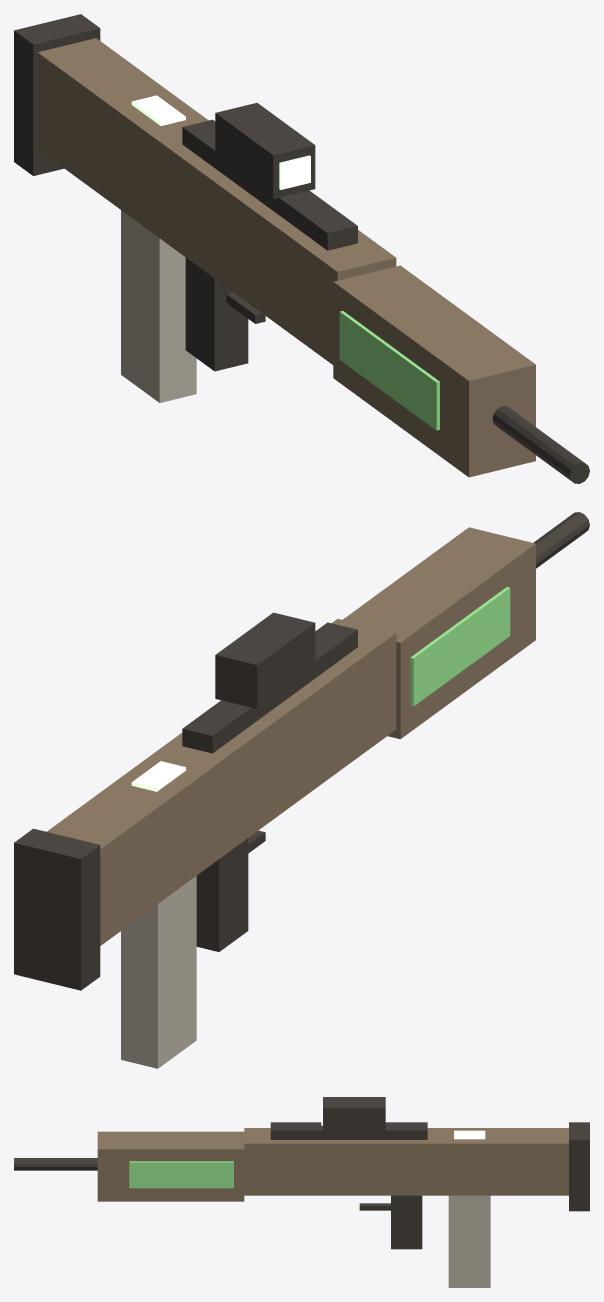
File: weapon_P_AssaultRifle.glb
3 views of the same model, one above another, from view 1: azimuth 30°, elevation 25°; view 2: azimuth 150°, elevation 25°; view 3: azimuth 270°, elevation 25° (orthographic). The views are drawn at different scales.
Visible parts, largest first — view 1: Body, Mag; view 2: Body, Mag; view 3: Body, Mag.
Boxes of the visible parts, x1,y1,x2,y2 form: Body: (14, 14, 589, 483); Mag: (121, 210, 196, 402); Body: (14, 512, 589, 990); Mag: (121, 876, 196, 1068); Body: (14, 1097, 589, 1249); Mag: (448, 1195, 490, 1287).
Size of the model in its own units: 0.088 by 0.38 by 1.1.
